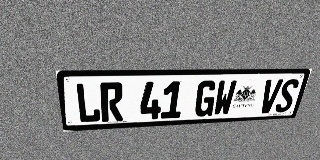1: (161, 81, 184, 119)
4: (140, 81, 163, 120)
G: (194, 80, 218, 117)
L: (75, 83, 101, 123)
R: (100, 82, 123, 122)
S: (274, 79, 300, 113)
V: (257, 79, 283, 114)
W: (212, 80, 237, 116)
